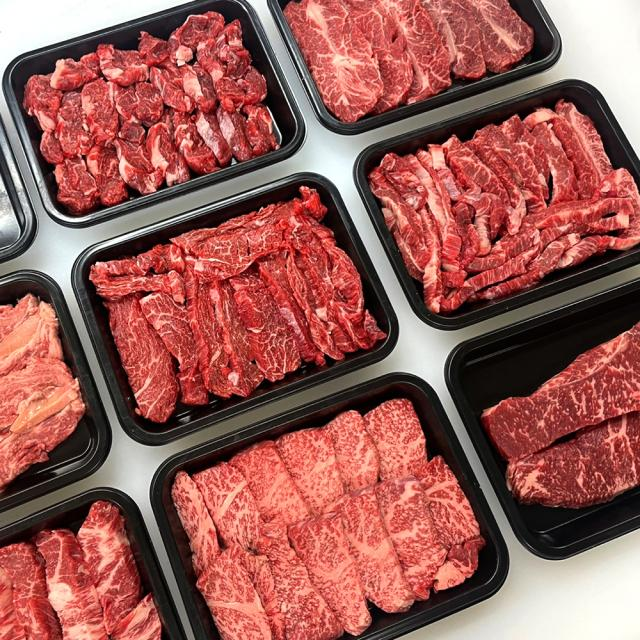beef: (195, 421, 474, 614), (376, 128, 638, 278), (126, 225, 369, 379), (42, 33, 269, 161), (500, 333, 640, 495), (306, 0, 506, 81)
